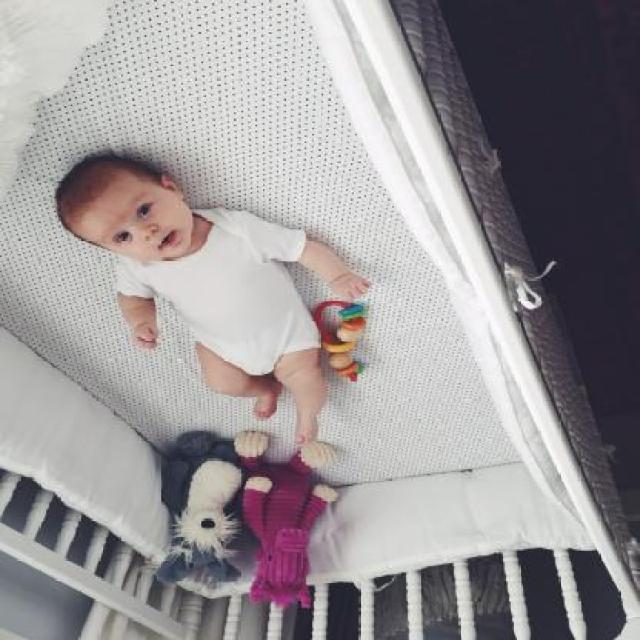baby: (56, 152, 376, 446)
